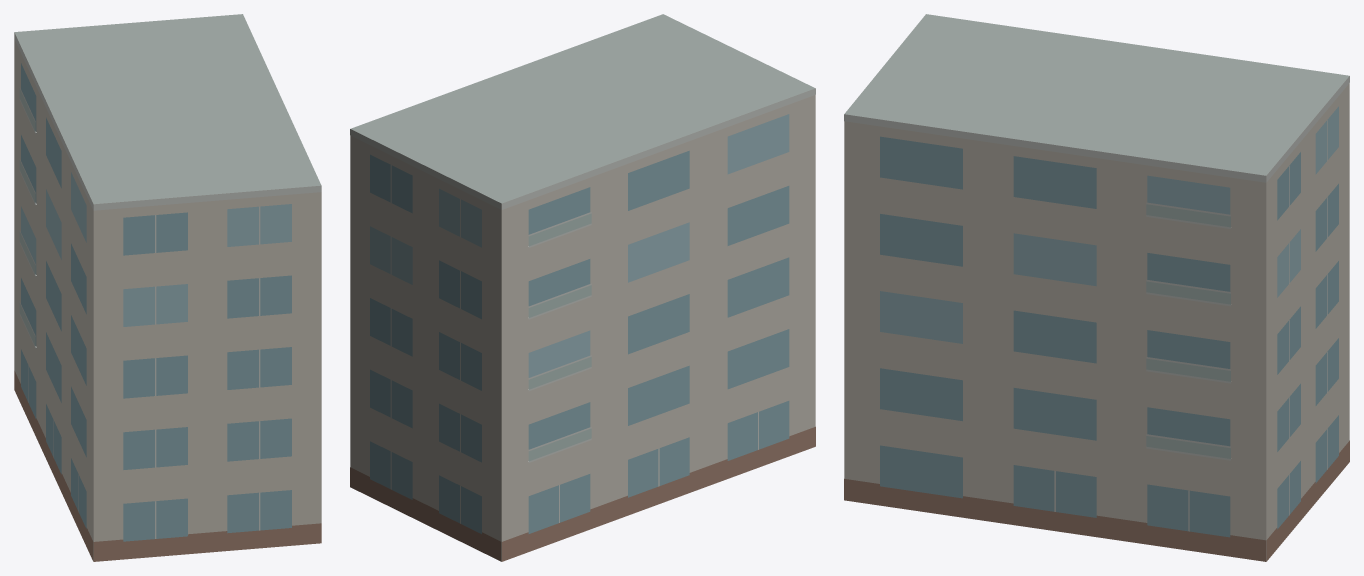
The model's file is survey-upis-32849549.glb.
3 renders of one model, left to right at view 1: azimuth 30°, elevation 25°; view 2: azimuth 150°, elevation 25°; view 3: azimuth 270°, elevation 25°, orthographic. The views are drawn at different scales.
Parts seen in each view (by area): view 1: survey-upis-32849549.tmp; view 2: survey-upis-32849549.tmp; view 3: survey-upis-32849549.tmp.
Boxes of the visible parts, bbox=[...] form: survey-upis-32849549.tmp: bbox=[14, 14, 321, 561]; survey-upis-32849549.tmp: bbox=[350, 14, 815, 561]; survey-upis-32849549.tmp: bbox=[844, 14, 1349, 561].
Size of the model in its own units: 12.14 by 13.5 by 16.03.
